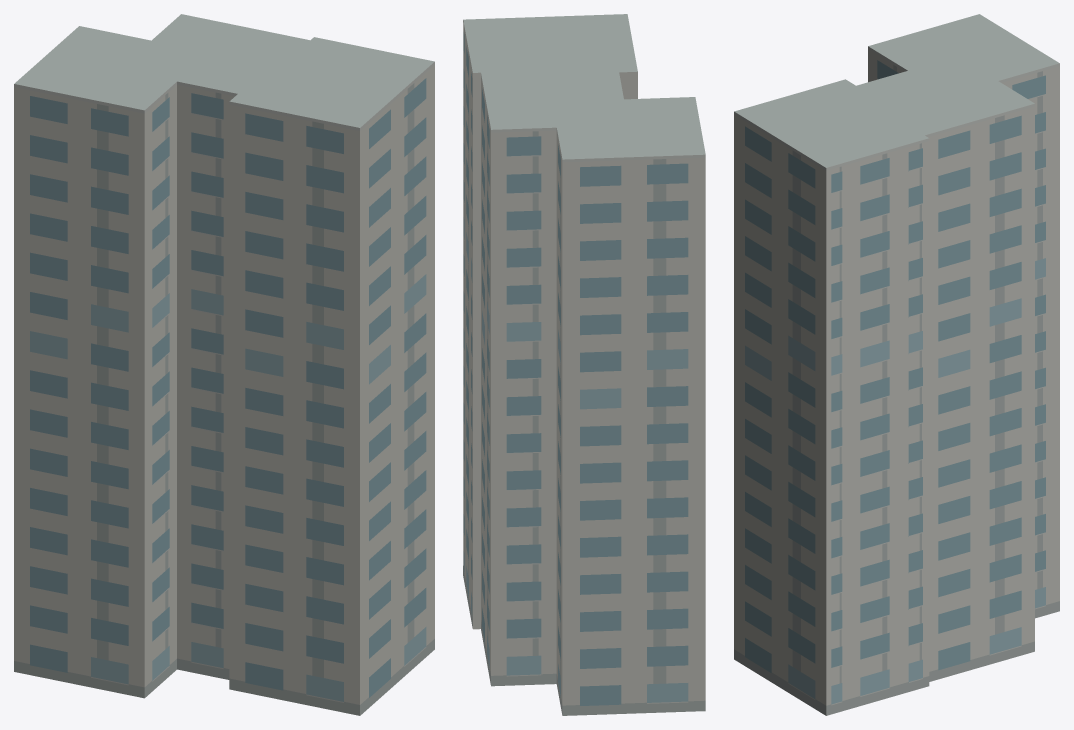
Rendered from survey-upis-32914419.glb.
3 renders of one model, left to right at view 1: azimuth 30°, elevation 25°; view 2: azimuth 150°, elevation 25°; view 3: azimuth 270°, elevation 25°, orthographic. The views are drawn at different scales.
Visible parts, largest first — view 1: survey-upis-32914419.tmp; view 2: survey-upis-32914419.tmp; view 3: survey-upis-32914419.tmp.
Part boxes in pixels (x1,y1,x2,y2): survey-upis-32914419.tmp: (14, 14, 434, 715); survey-upis-32914419.tmp: (463, 14, 705, 715); survey-upis-32914419.tmp: (734, 14, 1059, 715).
Size of the model in its own units: 27.58 by 45.75 by 24.66.
